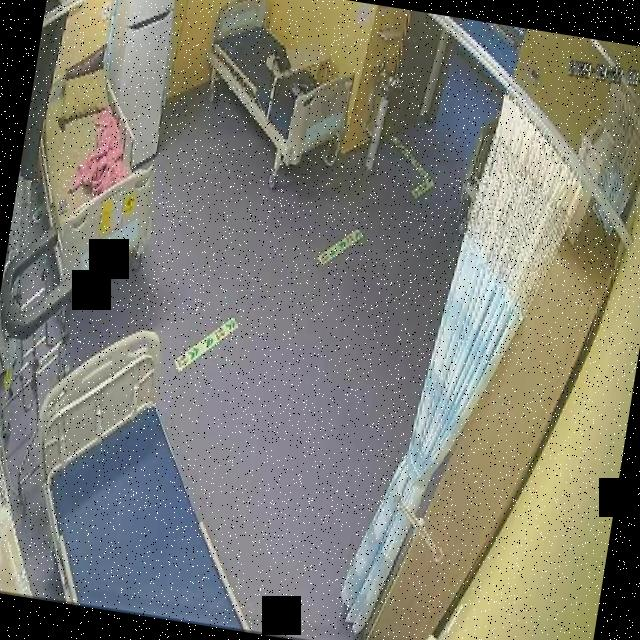bed: (7, 313, 289, 632), (16, 55, 176, 298), (196, 0, 366, 172)
walker: (0, 217, 84, 510)
